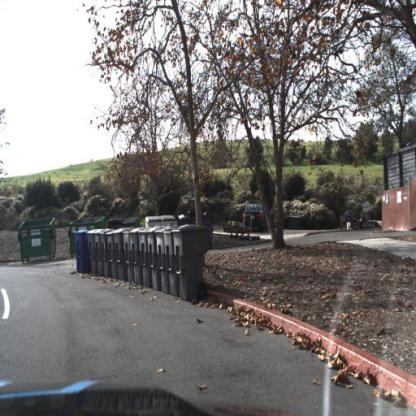car: (241, 202, 270, 234)
